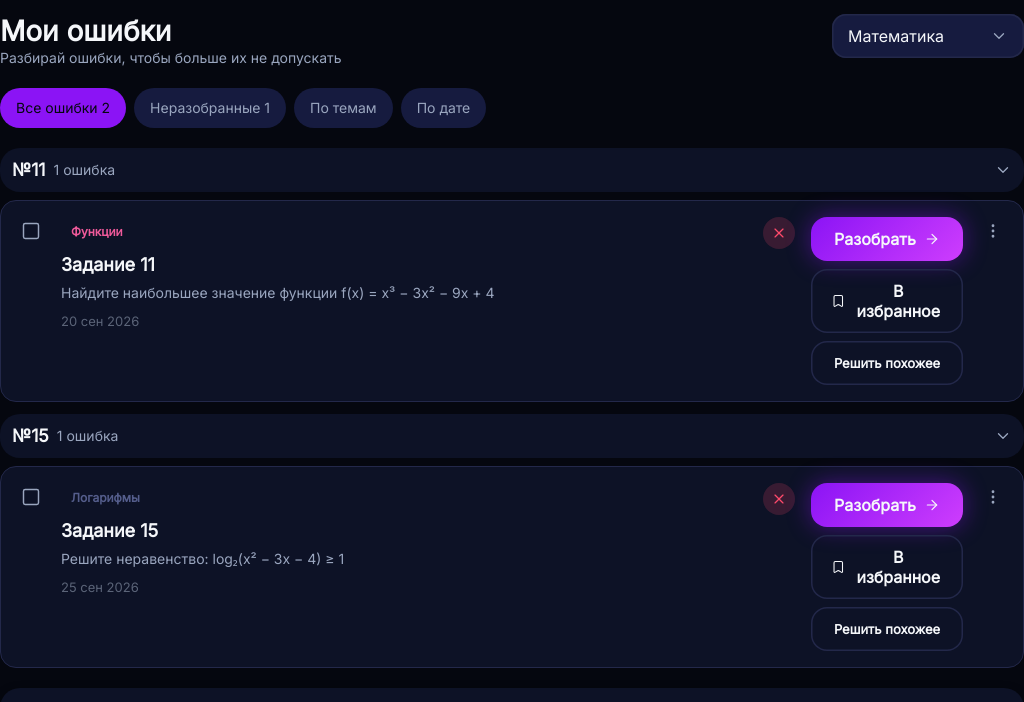
Test: MistakesDesktop › opens the real task for a mistake via "Разобрать"
Expected: the text "Решите неравенство: log₂(x² − 3x − 4) ≥ 1" is shown, [61,550,344,567]
Click the 1st button "Разобрать": (887, 239) [811,217,963,261]
(page scrolled)
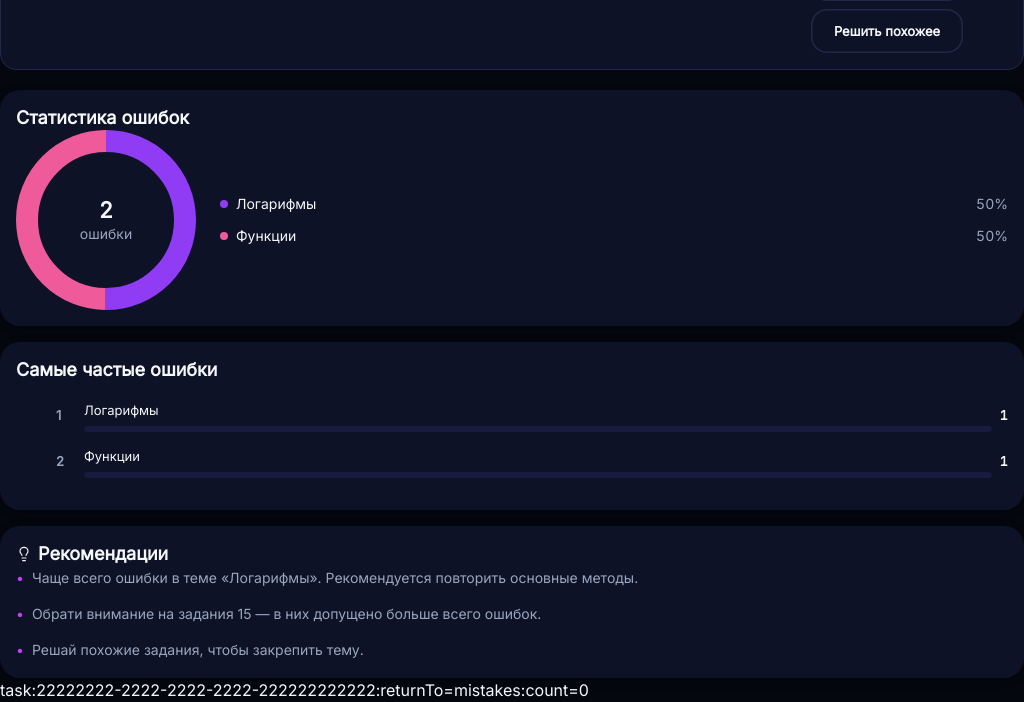
Expected: the text with test id "overlay" shows "task", [0,680,36,700]
